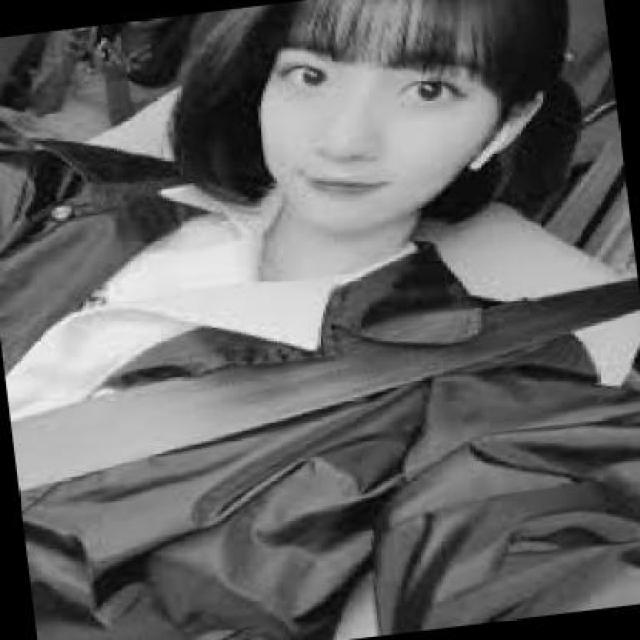earphone: (465, 109, 520, 200)
